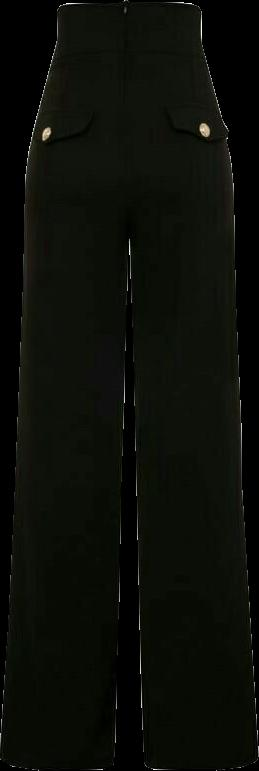Hemline: (0, 753, 115, 770), (142, 754, 258, 770)
Pantleg: (124, 0, 257, 768), (0, 0, 127, 770)
Waistline: (49, 44, 207, 63), (55, 0, 202, 17)
